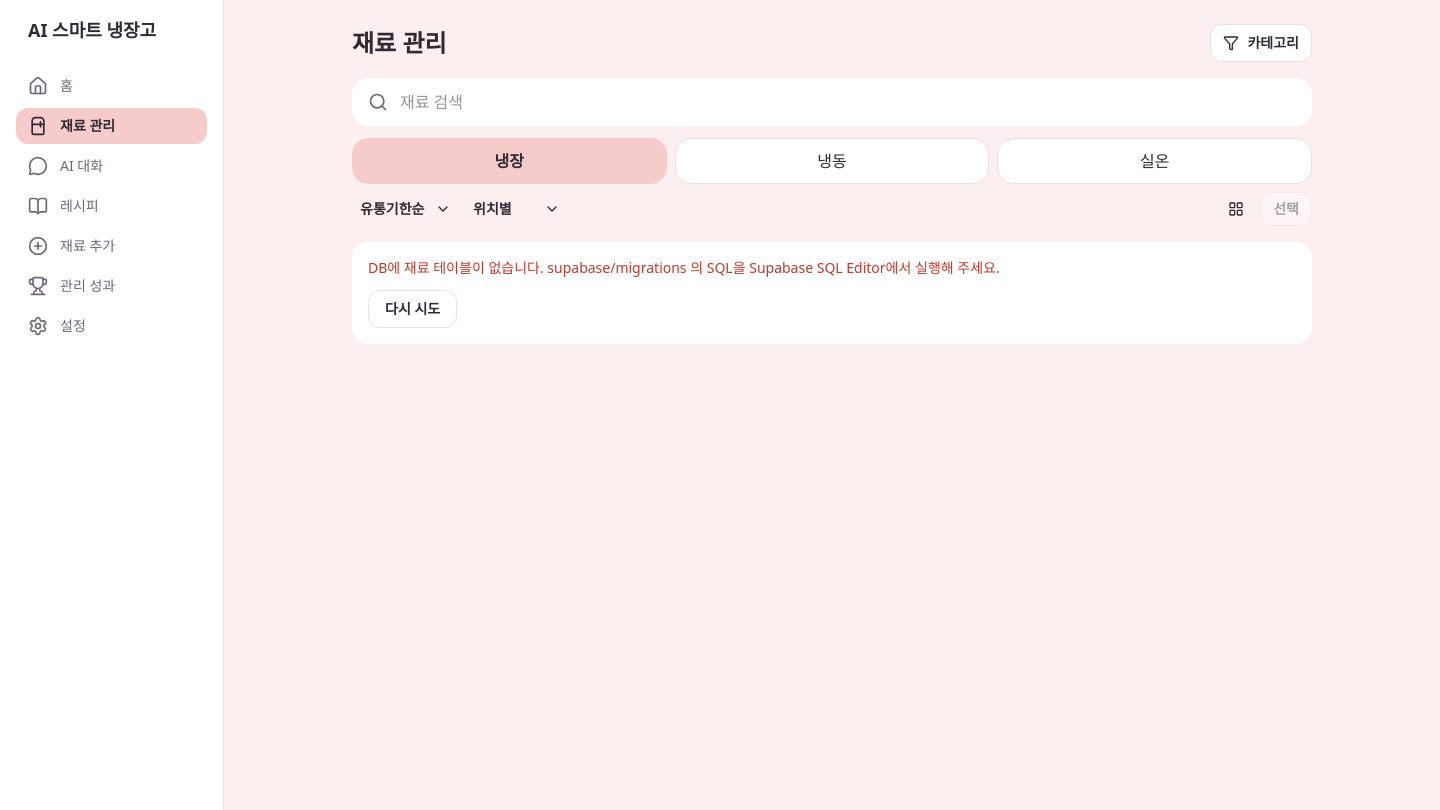
Test: 재료 관리 화면 › 불러오기에 실패하면 오류와 다시 시도 버튼을 보여준다
Check: the message shows "DB에 재료 테이블이 없습니다.", box [368,258,1000,277]
Click the button "다시 시도" at (413, 309), box [368,290,457,328]
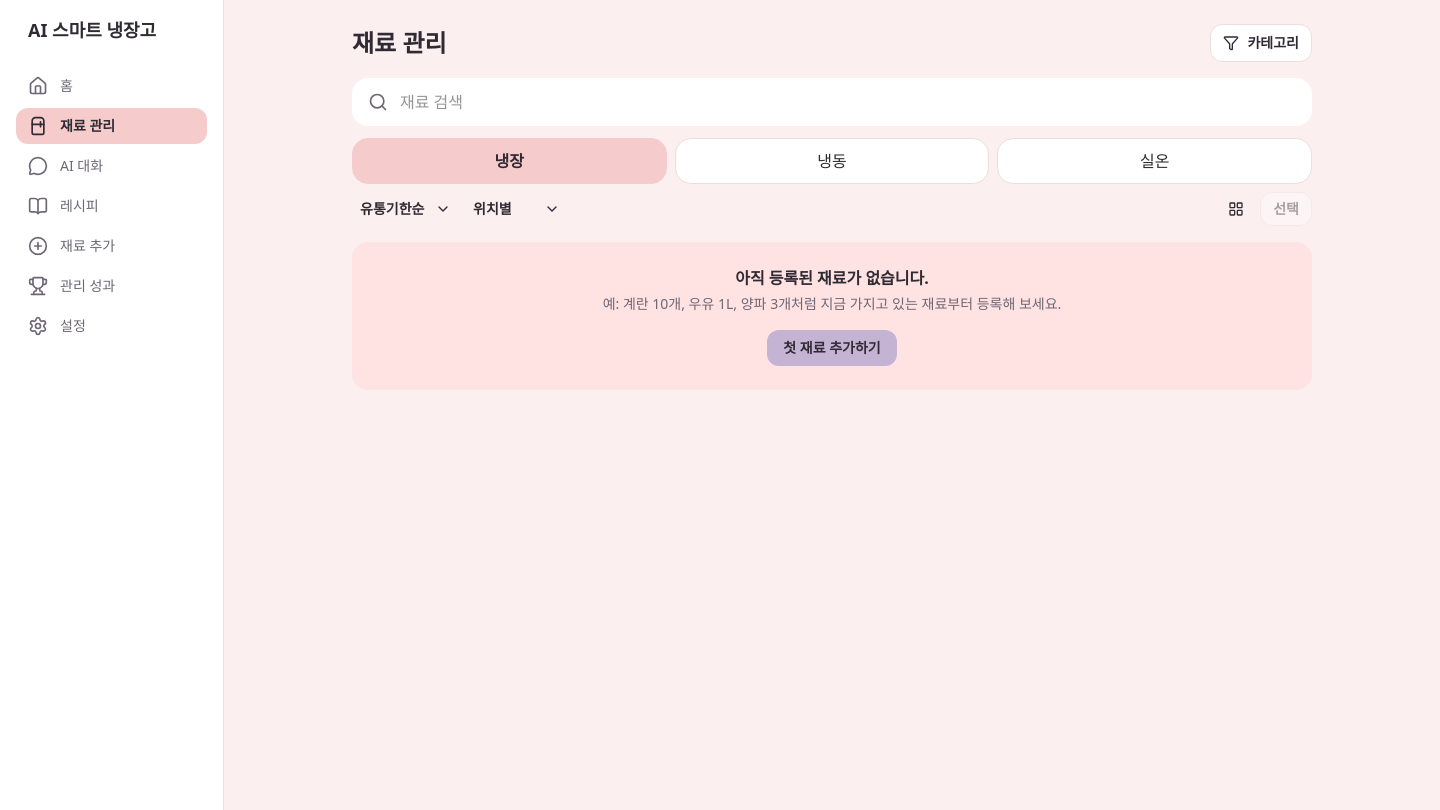
Check: the text "아직 등록된 재료가 없습니다." is shown, box [735,267,929,289]
